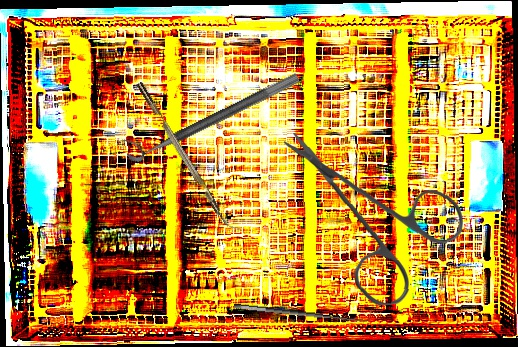Chopper: (136, 76, 241, 238)
Fixation Ring: (120, 58, 301, 166)
Hook Surgical: (233, 292, 372, 327)
Iris Scissors: (283, 126, 467, 309)
